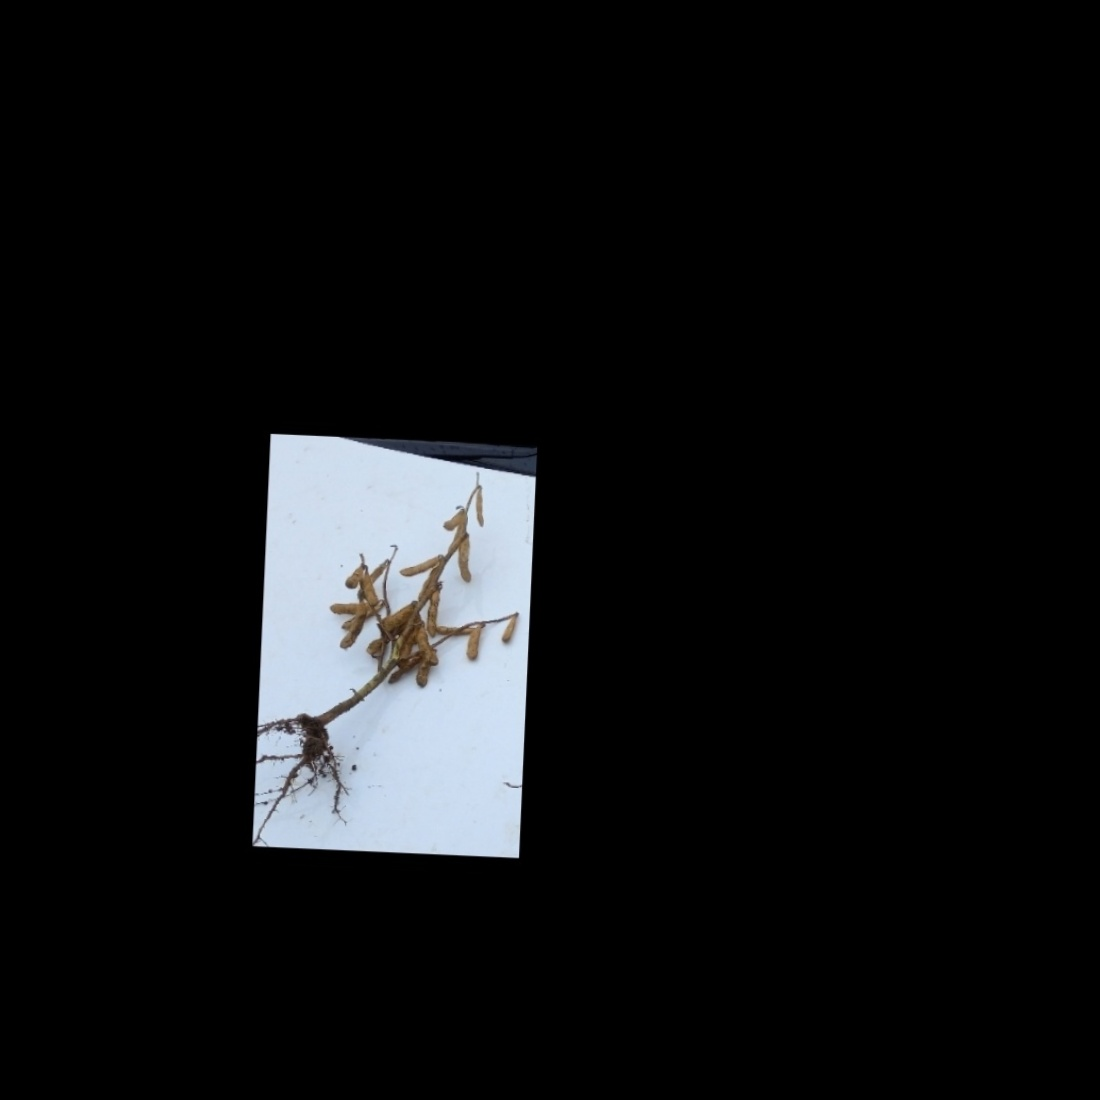pod: (399, 548, 441, 578), (456, 537, 473, 586), (465, 625, 486, 666), (426, 589, 441, 639), (498, 615, 517, 651), (440, 503, 463, 531), (341, 561, 362, 593), (474, 487, 489, 529)
soy: (261, 462, 530, 803)
